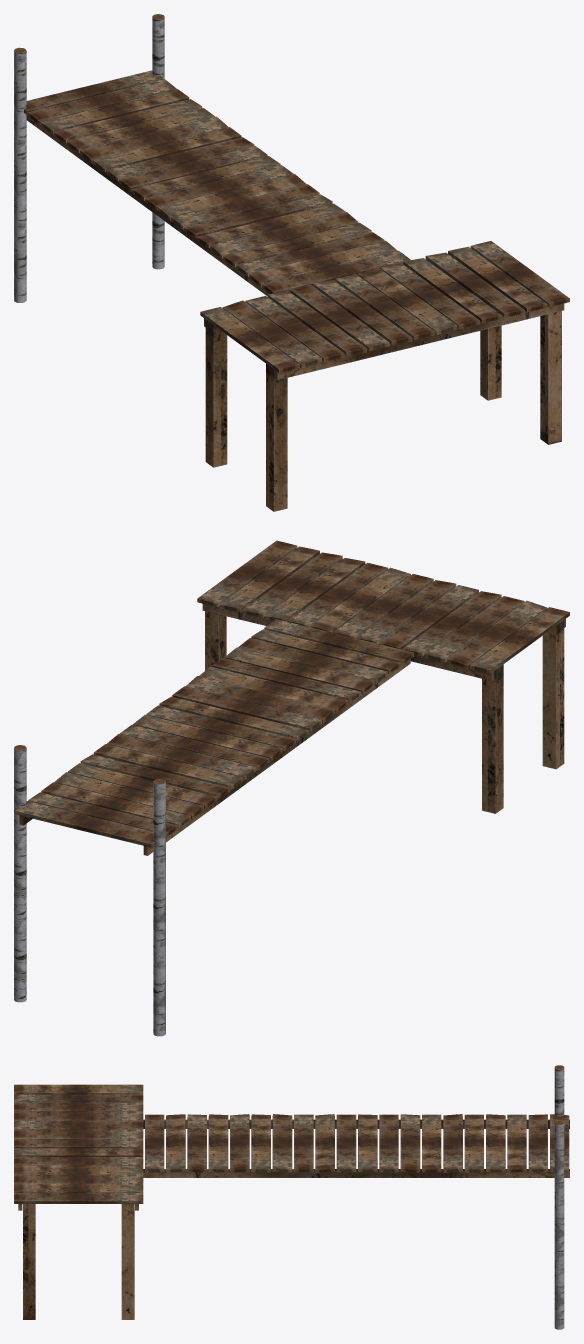
The model's file is the_wharf___lake_sea.glb.
The picture shows the model from 3 angles, top to bottom: view 1: azimuth 30°, elevation 25°; view 2: azimuth 150°, elevation 25°; view 3: azimuth 270°, elevation 25°; orthographic projection. The views are drawn at different scales.
Parts seen in each view (by area): view 1: Cloner_2; view 2: Cloner_2; view 3: Cloner_2.
Boxes of the visible parts, left/top/right/bottom form: Cloner_2: left=14, top=14, right=569, bottom=511; Cloner_2: left=14, top=540, right=569, bottom=1036; Cloner_2: left=14, top=1065, right=569, bottom=1329.
Size of the model in its own units: 4.26 by 3.5 by 8.6.
Materials: 1 (1 with a texture image).
